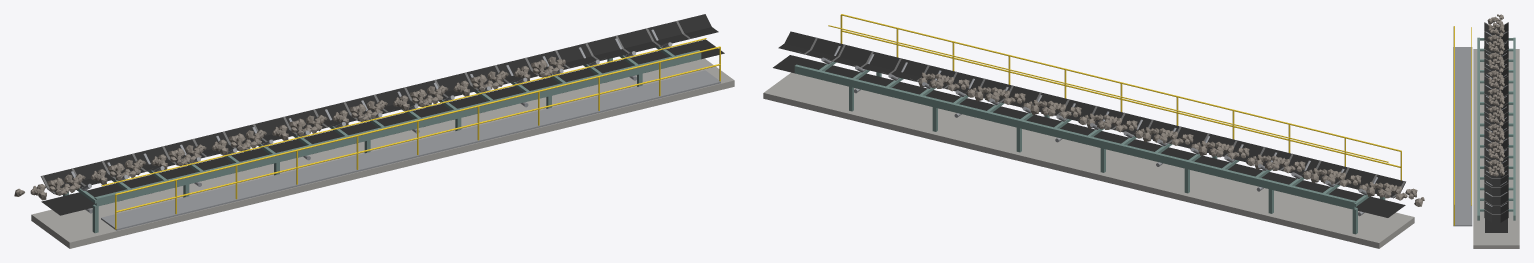
The model's file is EQ_Conveyor_20m.glb.
3 renders of one model, left to right at view 1: azimuth 30°, elevation 25°; view 2: azimuth 150°, elevation 25°; view 3: azimuth 270°, elevation 25°, orthographic. The views are drawn at different scales.
Parts seen in each view (by area): view 1: CV_Structure, CV_Belt_Top, CV_Ore, CV_Belt_Return, CV_Idlers; view 2: CV_Structure, CV_Belt_Top, CV_Ore, CV_Belt_Return, CV_Idlers; view 3: CV_Structure, CV_Belt_Top, CV_Ore, CV_Idlers, CV_Belt_Return.
Part boxes in pixels (<box>): CV_Structure: <box>31,38,734,248</box>; CV_Belt_Top: <box>40,14,718,194</box>; CV_Ore: <box>14,56,565,200</box>; CV_Belt_Return: <box>41,39,724,215</box>; CV_Idlers: <box>70,29,674,213</box>; CV_Structure: <box>763,14,1414,248</box>; CV_Belt_Top: <box>778,31,1405,198</box>; CV_Ore: <box>918,72,1424,206</box>; CV_Belt_Return: <box>773,55,1405,217</box>; CV_Idlers: <box>819,46,1377,216</box>; CV_Structure: <box>1453,26,1519,248</box>; CV_Belt_Top: <box>1484,22,1508,222</box>; CV_Ore: <box>1487,14,1504,176</box>; CV_Idlers: <box>1480,31,1513,211</box>; CV_Belt_Return: <box>1485,218,1507,232</box>.
Size of the model in its own units: 23.05 by 1.87 by 3.15.
